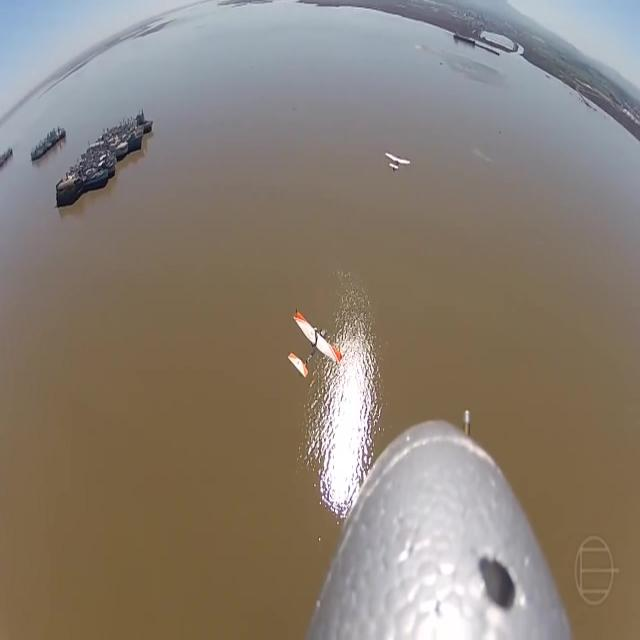iha: (384, 151, 411, 172), (287, 343, 342, 344)
